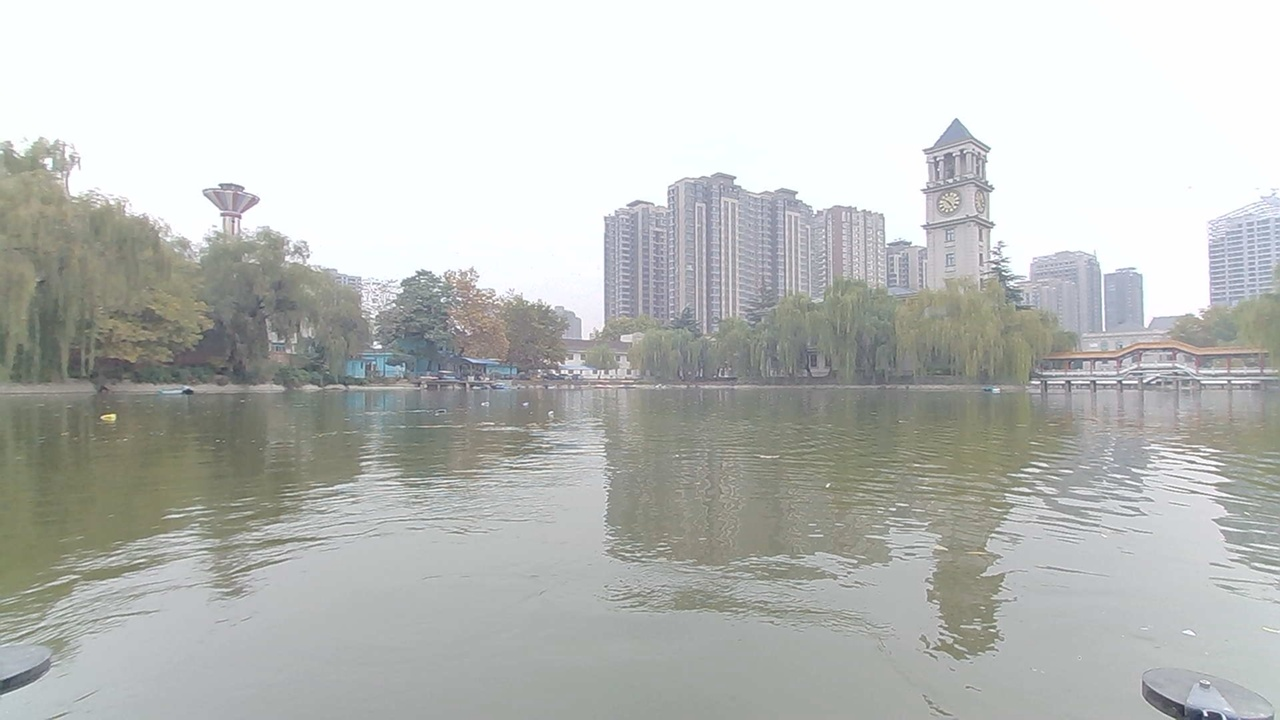bottle: (425, 398, 459, 427), (91, 405, 124, 429), (538, 392, 565, 420), (474, 389, 500, 415), (510, 392, 536, 411)
